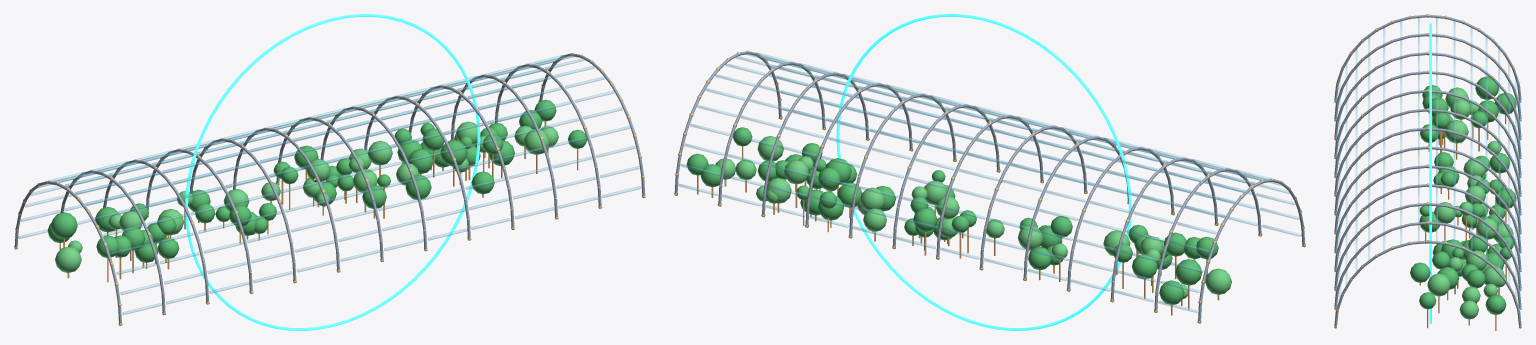
File: 02_L88_HabitatRingGlassBioDome.glb
3 renders of one model, left to right at view 1: azimuth 30°, elevation 25°; view 2: azimuth 150°, elevation 25°; view 3: azimuth 270°, elevation 25°, orthographic. The views are drawn at different scales.
Parts seen in each view (by area): view 1: L87_HabitatRingGlassBioDome_Part_0033, L87_HabitatRingGlassBioDome_Part_0030, L87_HabitatRingGlassBioDome_Part_0032, L87_HabitatRingGlassBioDome_Part_0035, L87_HabitatRingGlassBioDome_Part_0034, L87_HabitatRingGlassBioDome_Part_0019, L87_HabitatRingGlassBioDome_Part_0023, L87_HabitatRingGlassBioDome_Part_0018, L87_HabitatRingGlassBioDome_Part_0022, L87_HabitatRingGlassBioDome_Part_0016, L87_HabitatRingGlassBioDome_Part_0020, L87_HabitatRingGlassBioDome_Part_0024 (+15 smaller); view 2: L87_HabitatRingGlassBioDome_Part_0030, L87_HabitatRingGlassBioDome_Part_0033, L87_HabitatRingGlassBioDome_Part_0032, L87_HabitatRingGlassBioDome_Part_0035, L87_HabitatRingGlassBioDome_Part_0034, L87_HabitatRingGlassBioDome_Part_0016, L87_HabitatRingGlassBioDome_Part_0017, L87_HabitatRingGlassBioDome_Part_0020, L87_HabitatRingGlassBioDome_Part_0021, L87_HabitatRingGlassBioDome_Part_0024, L87_HabitatRingGlassBioDome_Part_0019, L87_HabitatRingGlassBioDome_Part_0023 (+15 smaller); view 3: L87_HabitatRingGlassBioDome_Part_0030, L87_HabitatRingGlassBioDome_Part_0033, L87_HabitatRingGlassBioDome_Part_0032, L87_HabitatRingGlassBioDome_Part_0034, L87_HabitatRingGlassBioDome_Part_0002, L87_HabitatRingGlassBioDome_Part_0001, L87_HabitatRingGlassBioDome_Part_0005, L87_HabitatRingGlassBioDome_Part_0006, L87_HabitatRingGlassBioDome_Part_0009, L87_HabitatRingGlassBioDome_Part_0003, L87_HabitatRingGlassBioDome_Part_0007, L87_HabitatRingGlassBioDome_Part_0008 (+23 smaller).
Part boxes in pixels (x1=…): L87_HabitatRingGlassBioDome_Part_0033: x1=50, y1=110, x2=587, y2=243; L87_HabitatRingGlassBioDome_Part_0030: x1=55, y1=121, x2=558, y2=272; L87_HabitatRingGlassBioDome_Part_0032: x1=47, y1=123, x2=498, y2=262; L87_HabitatRingGlassBioDome_Part_0035: x1=185, y1=14, x2=480, y2=330; L87_HabitatRingGlassBioDome_Part_0034: x1=95, y1=99, x2=556, y2=258; L87_HabitatRingGlassBioDome_Part_0019: x1=195, y1=129, x2=335, y2=282; L87_HabitatRingGlassBioDome_Part_0023: x1=413, y1=76, x2=553, y2=229; L87_HabitatRingGlassBioDome_Part_0018: x1=149, y1=139, x2=273, y2=293; L87_HabitatRingGlassBioDome_Part_0022: x1=369, y1=86, x2=491, y2=240; L87_HabitatRingGlassBioDome_Part_0016: x1=18, y1=171, x2=161, y2=314; L87_HabitatRingGlassBioDome_Part_0020: x1=236, y1=118, x2=379, y2=261; L87_HabitatRingGlassBioDome_Part_0024: x1=454, y1=65, x2=597, y2=208; L87_HabitatRingGlassBioDome_Part_0030: x1=715, y1=136, x2=1231, y2=298; L87_HabitatRingGlassBioDome_Part_0033: x1=700, y1=127, x2=1202, y2=285; L87_HabitatRingGlassBioDome_Part_0032: x1=775, y1=160, x2=1218, y2=304; L87_HabitatRingGlassBioDome_Part_0035: x1=836, y1=14, x2=1131, y2=330; L87_HabitatRingGlassBioDome_Part_0034: x1=686, y1=143, x2=1200, y2=279; L87_HabitatRingGlassBioDome_Part_0016: x1=1114, y1=169, x2=1301, y2=312; L87_HabitatRingGlassBioDome_Part_0017: x1=1071, y1=159, x2=1257, y2=291; L87_HabitatRingGlassBioDome_Part_0020: x1=896, y1=116, x2=1083, y2=259; L87_HabitatRingGlassBioDome_Part_0021: x1=853, y1=105, x2=1039, y2=238; L87_HabitatRingGlassBioDome_Part_0024: x1=678, y1=63, x2=865, y2=206; L87_HabitatRingGlassBioDome_Part_0019: x1=984, y1=127, x2=1170, y2=269; L87_HabitatRingGlassBioDome_Part_0023: x1=766, y1=73, x2=952, y2=216; L87_HabitatRingGlassBioDome_Part_0030: x1=1427, y1=87, x2=1513, y2=319; L87_HabitatRingGlassBioDome_Part_0033: x1=1410, y1=76, x2=1510, y2=314; L87_HabitatRingGlassBioDome_Part_0032: x1=1422, y1=85, x2=1516, y2=280; L87_HabitatRingGlassBioDome_Part_0034: x1=1420, y1=93, x2=1513, y2=314; L87_HabitatRingGlassBioDome_Part_0002: x1=1334, y1=52, x2=1521, y2=157; L87_HabitatRingGlassBioDome_Part_0001: x1=1334, y1=33, x2=1521, y2=138; L87_HabitatRingGlassBioDome_Part_0005: x1=1334, y1=127, x2=1521, y2=232; L87_HabitatRingGlassBioDome_Part_0006: x1=1334, y1=146, x2=1521, y2=251; L87_HabitatRingGlassBioDome_Part_0009: x1=1334, y1=221, x2=1521, y2=327; L87_HabitatRingGlassBioDome_Part_0003: x1=1334, y1=90, x2=1521, y2=176; L87_HabitatRingGlassBioDome_Part_0007: x1=1334, y1=184, x2=1521, y2=270; L87_HabitatRingGlassBioDome_Part_0008: x1=1334, y1=203, x2=1521, y2=308.
Size of the model in its own units: 19.8 by 11.1 by 6.91.
